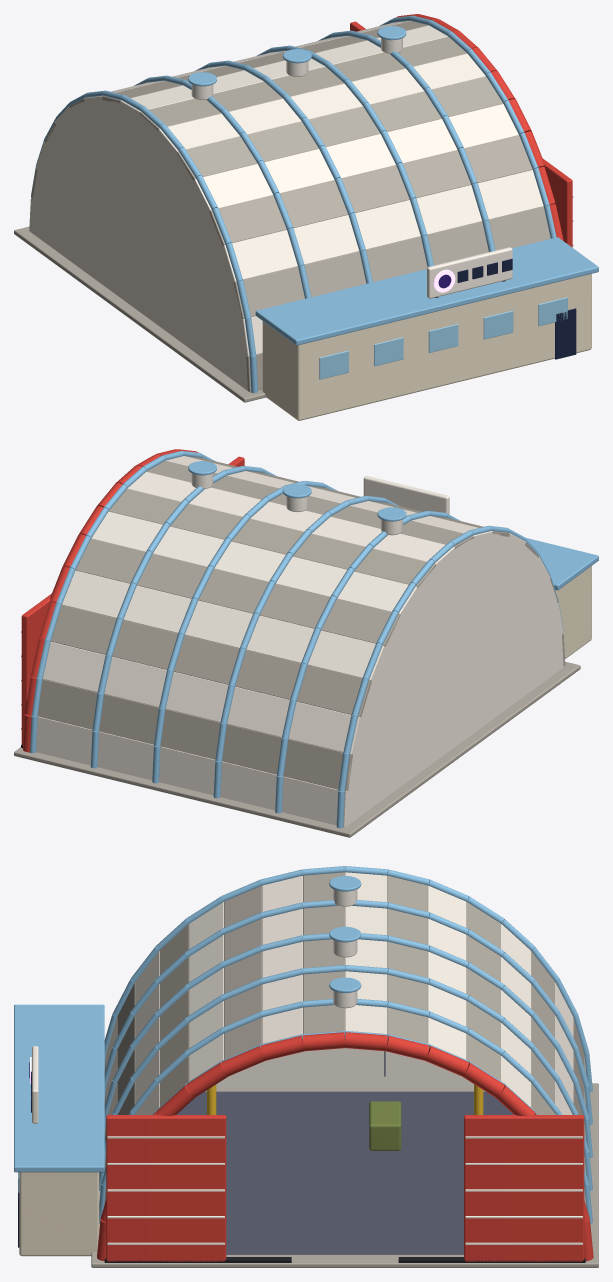
The model's file is hangar.glb.
The picture shows the model from 3 angles, top to bottom: view 1: azimuth 30°, elevation 25°; view 2: azimuth 150°, elevation 25°; view 3: azimuth 270°, elevation 25°; orthographic projection. The views are drawn at different scales.
Visible parts, largest first — view 1: hangar; view 2: hangar; view 3: hangar.
Boxes of the visible parts, x1,y1,x2,y2 form: hangar: [14, 14, 598, 420]; hangar: [14, 449, 598, 837]; hangar: [14, 866, 598, 1267].
Bounding box in the file's own units: 16 × 10.12 × 21.9.
1 material, 1 textured.
